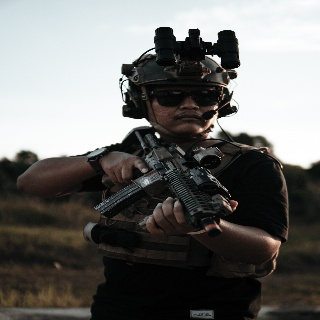rifle: (94, 130, 238, 240)
